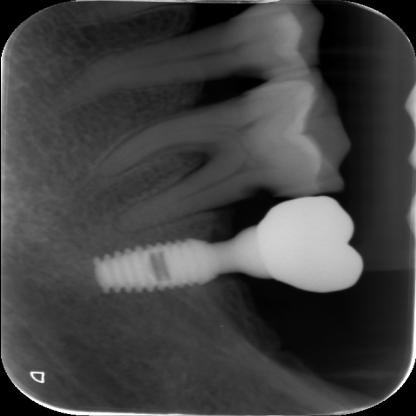Bicon: (76, 231, 230, 305)
